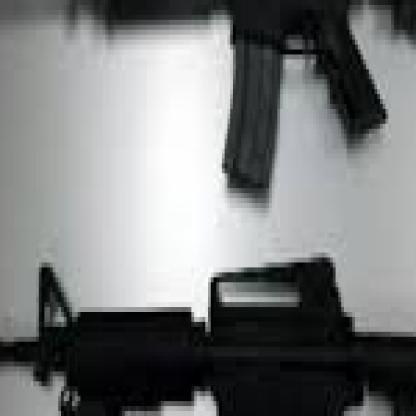gun: (22, 0, 413, 411)
